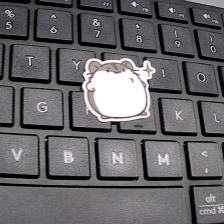mouse: (81, 57, 158, 124)
